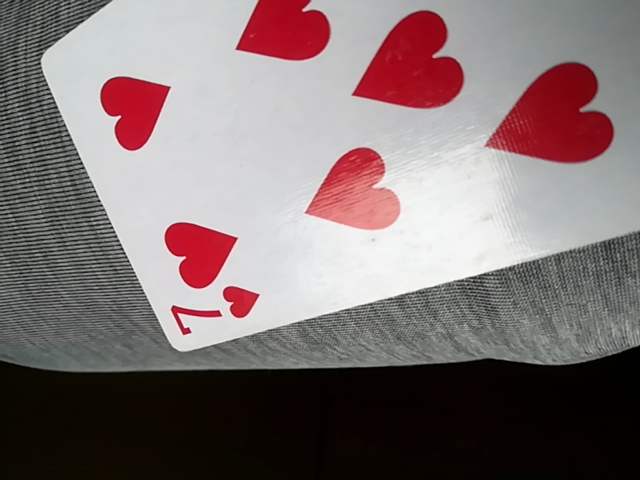hx 7: (35, 1, 636, 348)
